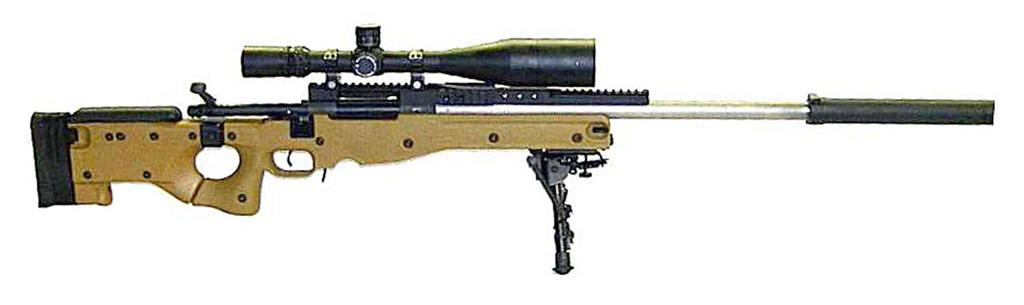Rifle: (30, 27, 991, 274)
